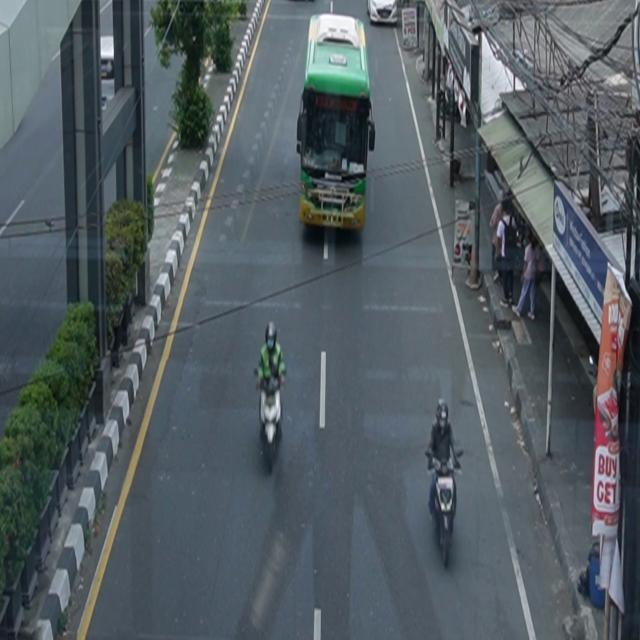bus: (297, 13, 377, 235)
car: (367, 1, 398, 26), (101, 37, 115, 79)
